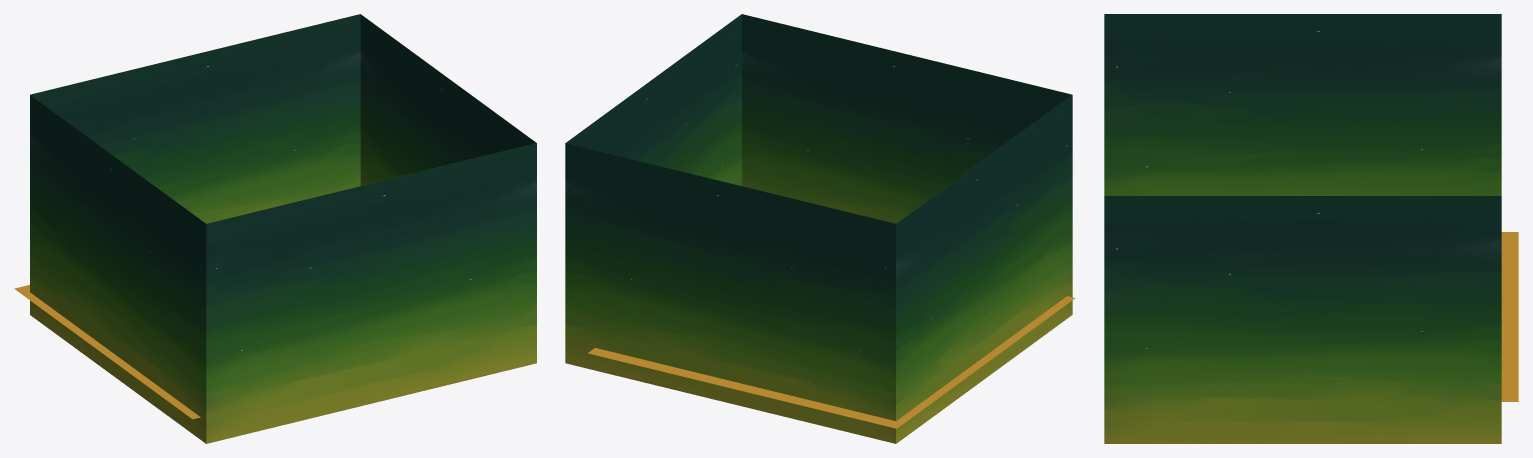
3 views of the same model, side by side, from view 1: azimuth 30°, elevation 25°; view 2: azimuth 150°, elevation 25°; view 3: azimuth 270°, elevation 25° (orthographic). The views are drawn at different scales.
Visible parts, largest first — view 1: Sky_Cube.020, Ground_Plane; view 2: Sky_Cube.020, Ground_Plane; view 3: Sky_Cube.020, Ground_Plane.
Boxes of the visible parts, bbox=[...] form: Sky_Cube.020: bbox=[30, 14, 536, 443]; Ground_Plane: bbox=[14, 285, 200, 419]; Sky_Cube.020: bbox=[565, 14, 1072, 443]; Ground_Plane: bbox=[588, 296, 1074, 428]; Sky_Cube.020: bbox=[1104, 14, 1501, 443]; Ground_Plane: bbox=[1501, 232, 1518, 401].
Bounding box in the file's own units: 107 × 66.25 × 100.
3 materials, 1 textured.
